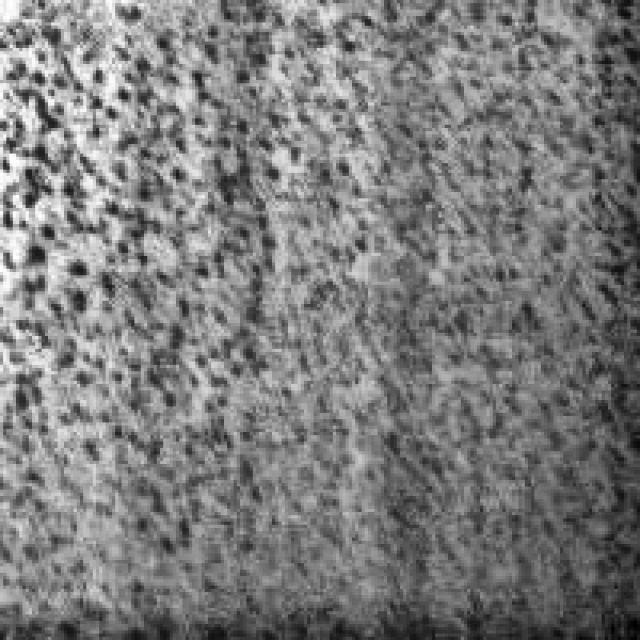Rolled_in_Scale: (0, 0, 634, 627)
